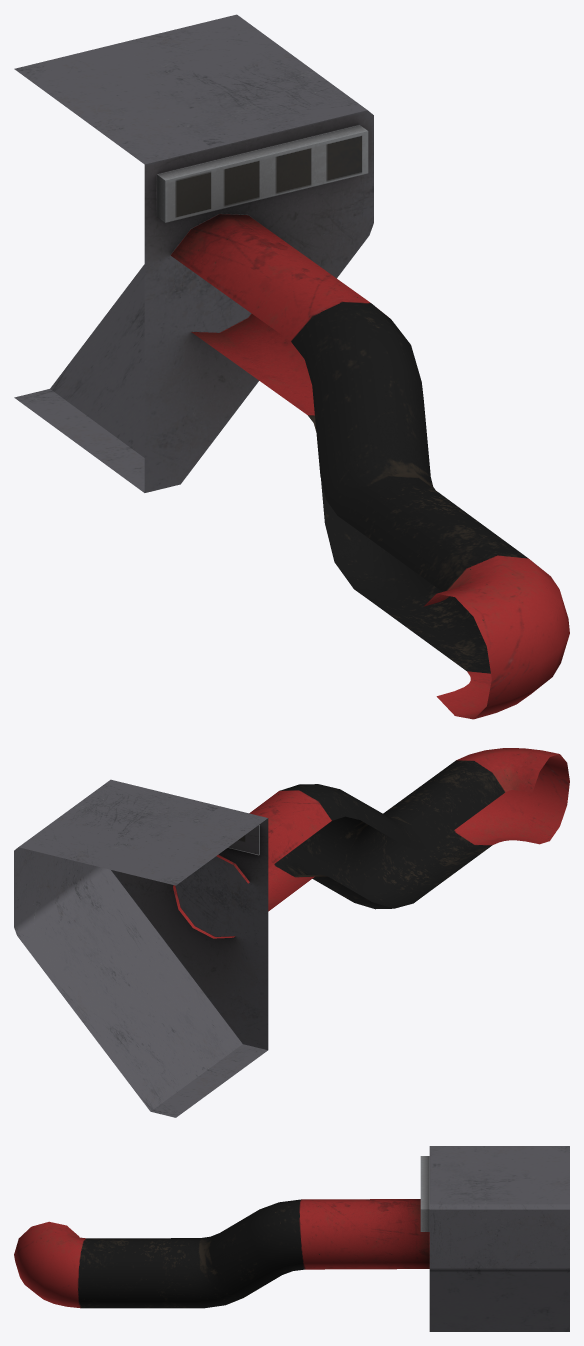
File: Pipe.fbx
3 views of the same model, one above another, from view 1: azimuth 30°, elevation 25°; view 2: azimuth 150°, elevation 25°; view 3: azimuth 270°, elevation 25° (orthographic). The views are drawn at different scales.
Parts seen in each view (by area): view 1: Pipe; view 2: Pipe; view 3: Pipe.
Part boxes in pixels (bbox=[...]): Pipe: bbox=[14, 14, 569, 719]; Pipe: bbox=[14, 748, 569, 1117]; Pipe: bbox=[14, 1146, 569, 1331].
Bounding box in the file's own units: 43.42 × 49.27 × 141.
